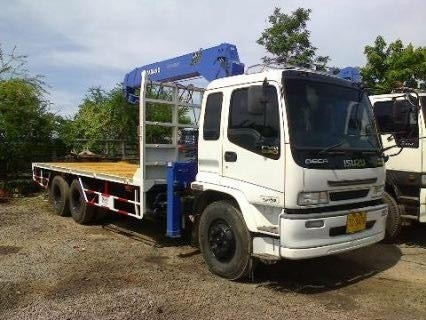truck: (25, 41, 389, 282)
